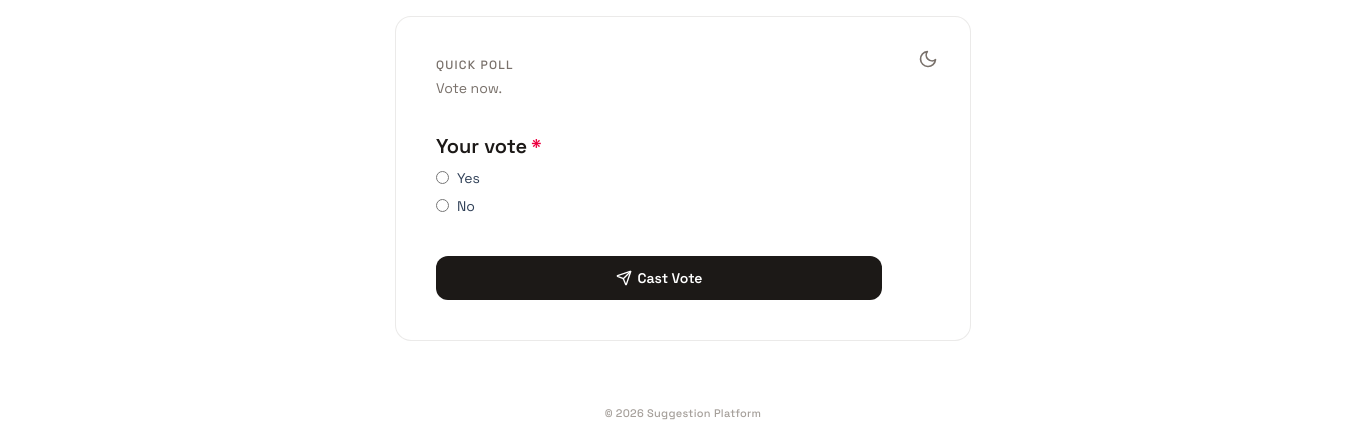
FormRenderPage › after submit for poll shows Thanks for voting and See results
This screenshot has width=1366, height=437.
Expected: the text "Quick Poll" is shown, [436,57,514,73]
Click the radio button labelled "Yes". click: (442, 178)
box: [436,171,449,184]
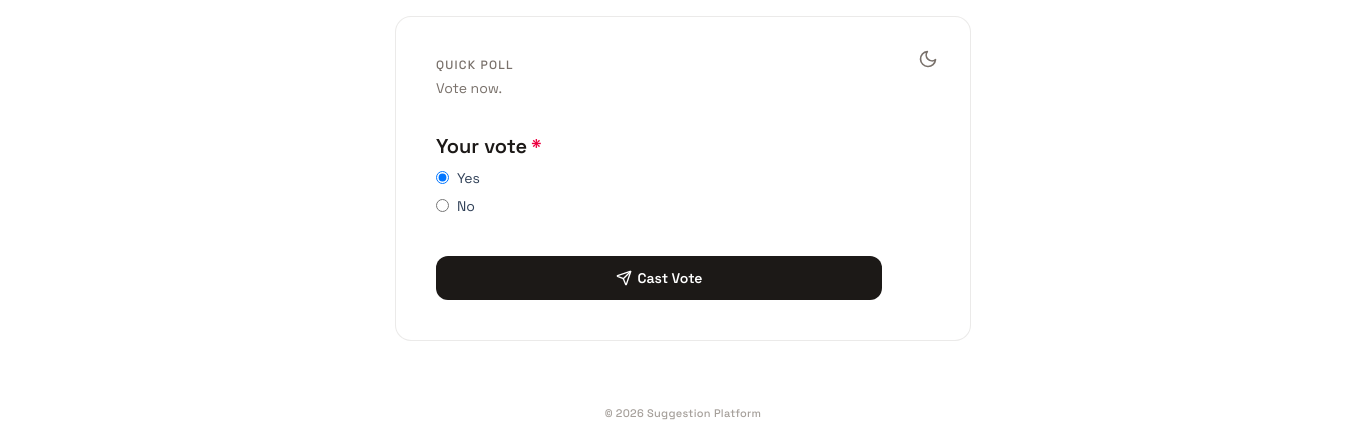
Click the button "Cast Vote". click: (659, 278)
box: [436,256,882,300]
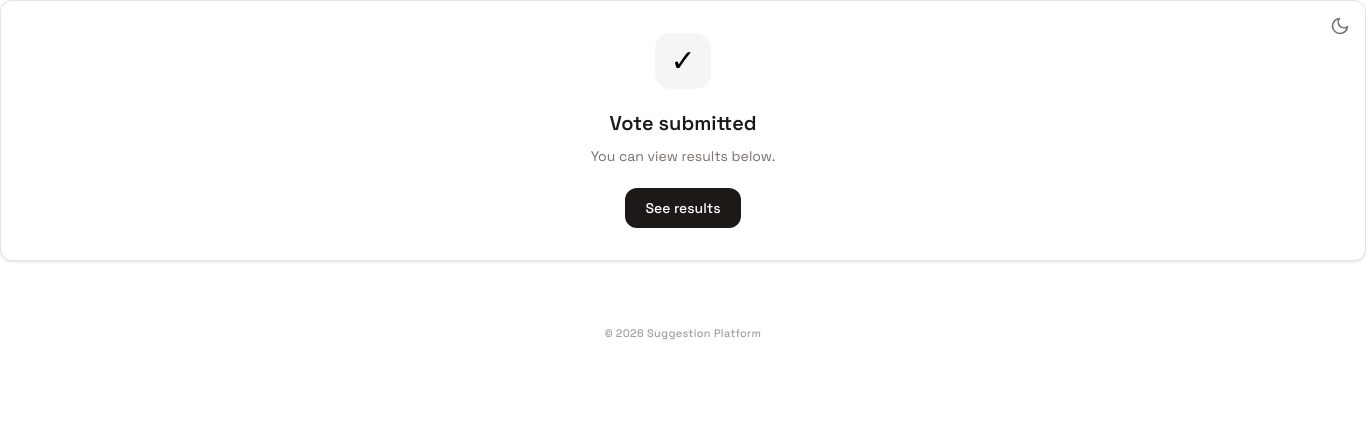
Result: the heading "Vote submitted" is shown at [610,110,757,136]
Result: the link with test id "see-results-link" is shown at [626,188,741,228]
